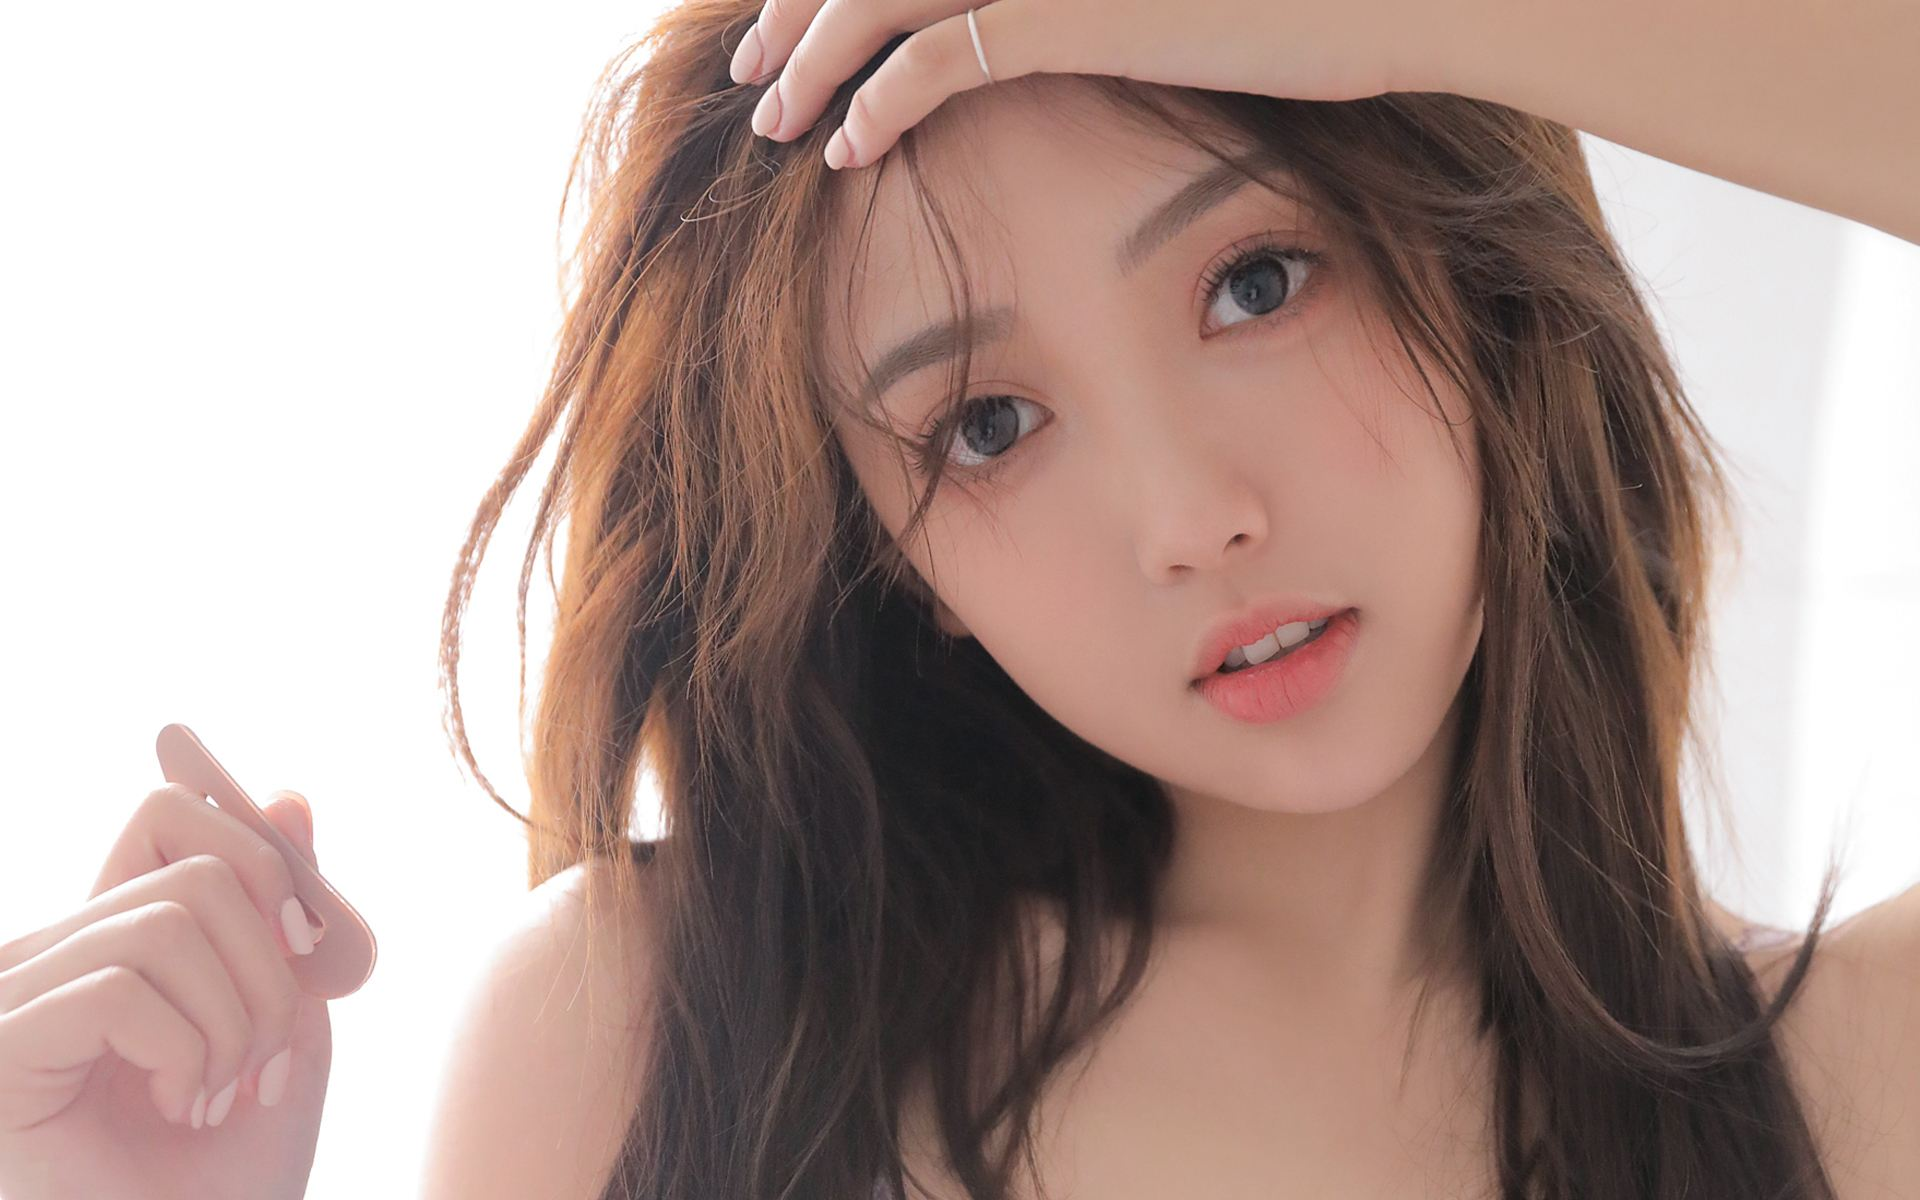person: (505, 37, 1651, 1162)
